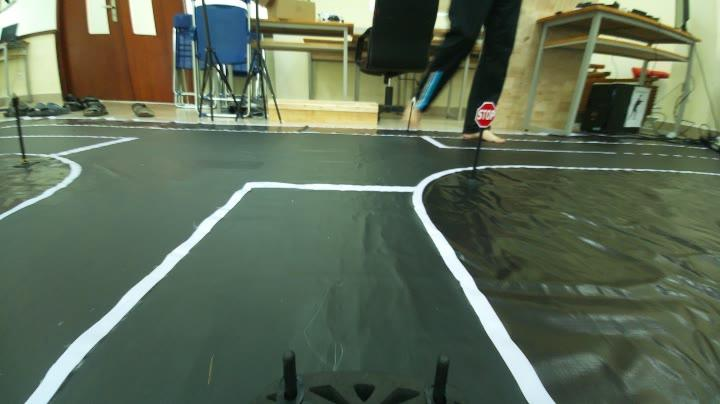stop: (470, 95, 501, 132)
